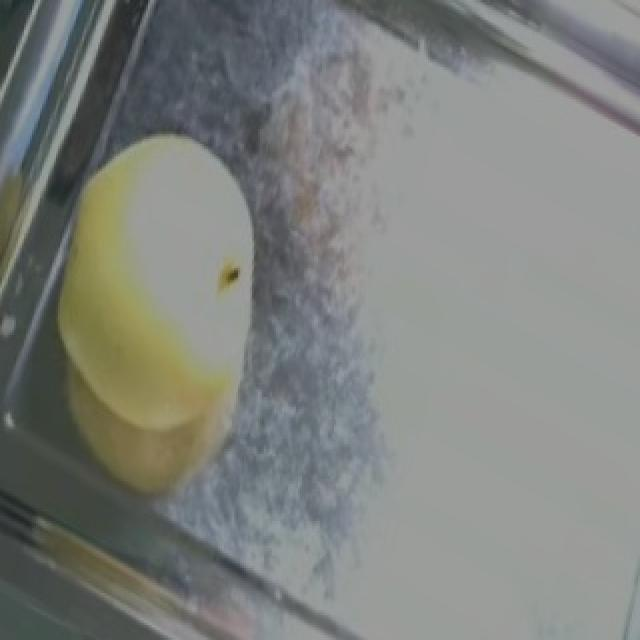Fruit: (10, 198, 294, 536)
